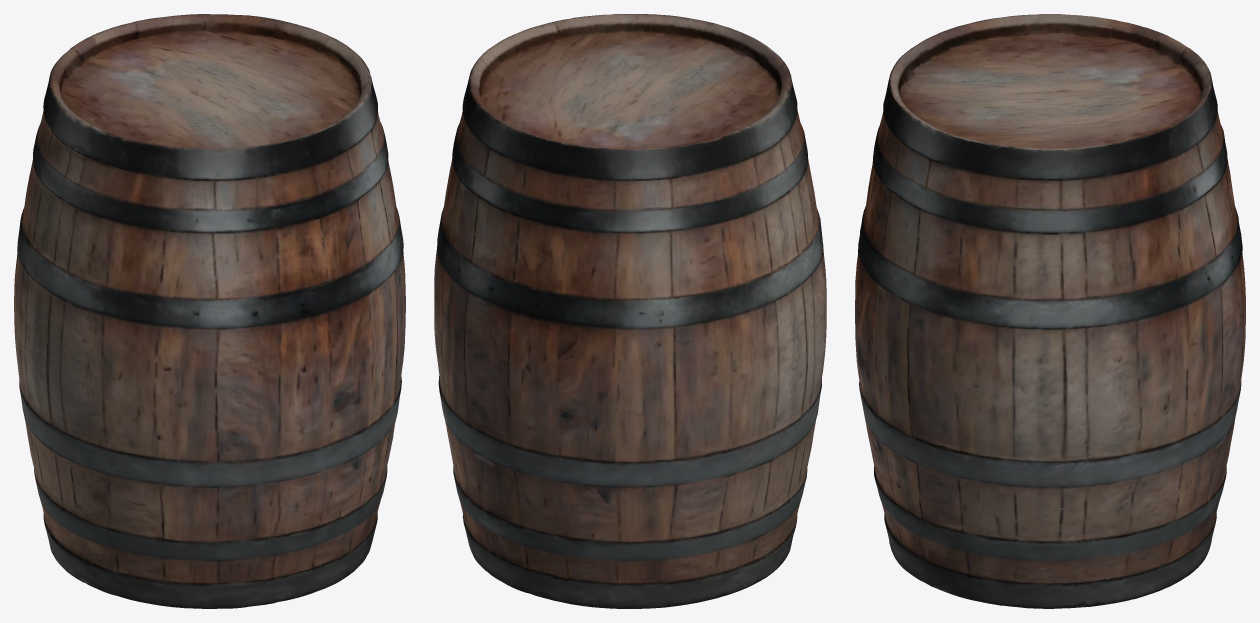
The picture shows the model from 3 angles, left to right: view 1: azimuth 30°, elevation 25°; view 2: azimuth 150°, elevation 25°; view 3: azimuth 270°, elevation 25°; orthographic projection.
Parts seen in each view (by area): view 1: Mesh_0; view 2: Mesh_0; view 3: Mesh_0.
Part boxes in pixels (x1,y1,x2,y2): Mesh_0: [14, 14, 405, 608]; Mesh_0: [434, 14, 826, 608]; Mesh_0: [855, 14, 1245, 608].
Bounding box in the file's own units: 0.6651 × 0.86 × 0.6612.
1 material, 1 textured.
